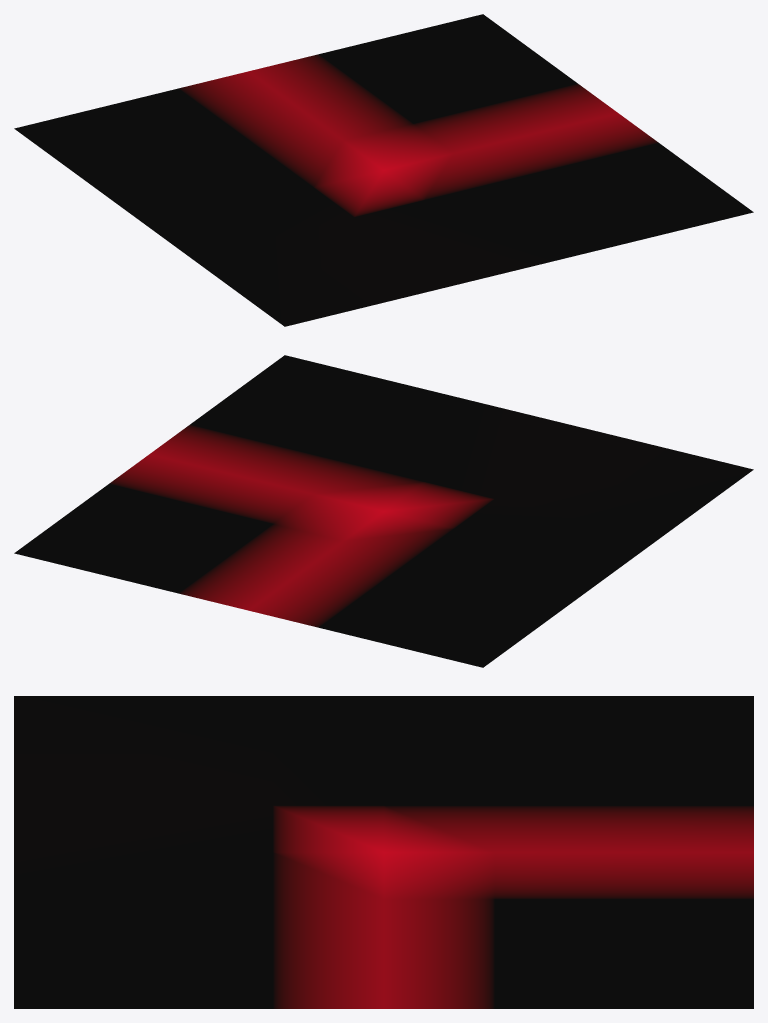
The model's file is An_karts.fbx.
3 views of the same model, one above another, from view 1: azimuth 30°, elevation 25°; view 2: azimuth 150°, elevation 25°; view 3: azimuth 270°, elevation 25° (orthographic). The views are drawn at different scales.
Parts seen in each view (by area): view 1: An_karts; view 2: An_karts; view 3: An_karts.
Boxes of the visible parts, <box> form: An_karts: <box>14,14,753,326</box>; An_karts: <box>14,355,753,667</box>; An_karts: <box>14,696,753,1008</box>.
Bounding box in the file's own units: 100 × 0 × 100.
